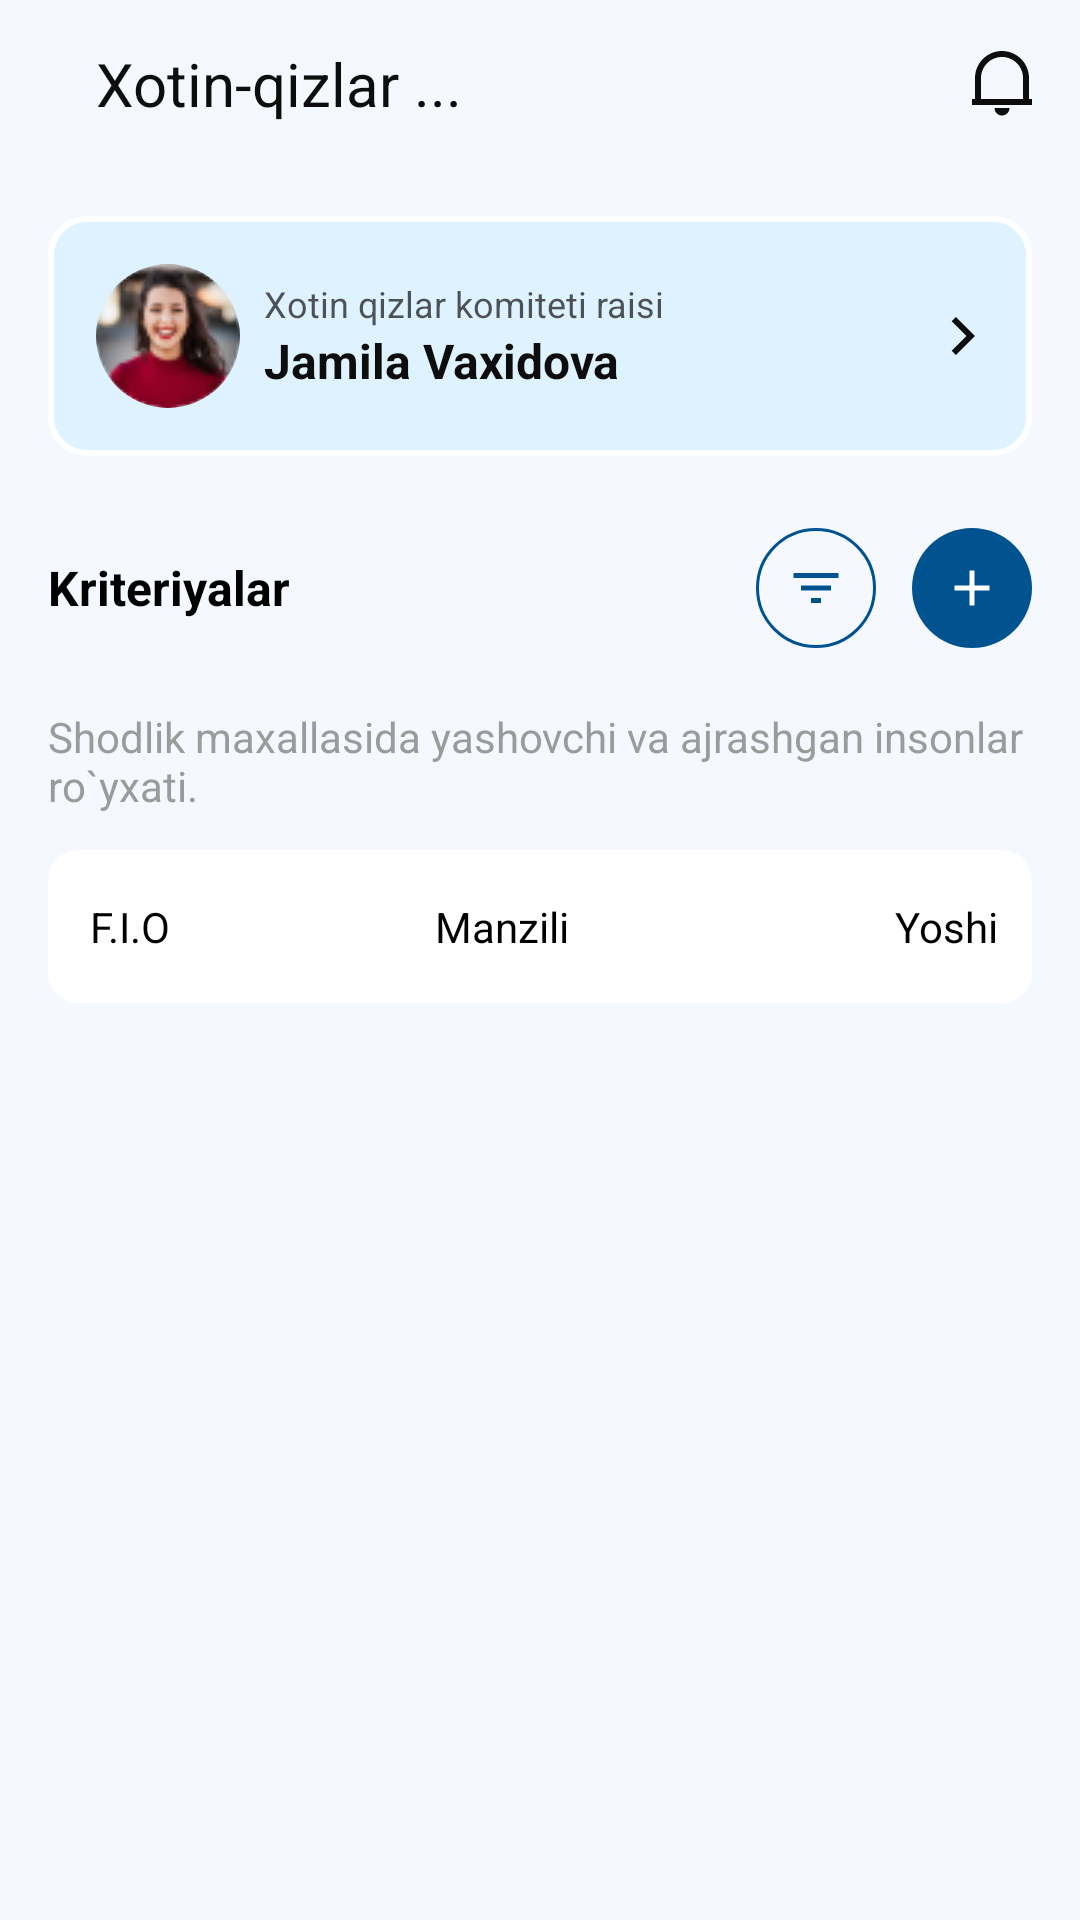

Icon bounding boxes for this 1080px x 1920px phone screenshot, format (x1, y1, x2, y2):
add: (912, 528, 1032, 648)
arrow right: (952, 317, 975, 355)
filter: (756, 528, 876, 648)
girl: (96, 264, 240, 408)
notification: (972, 51, 1032, 116)
